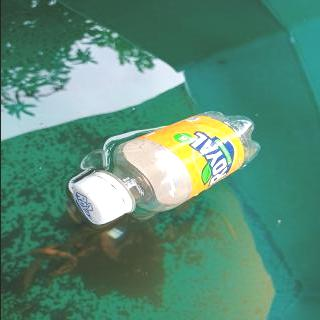bottle: (65, 110, 262, 226)
